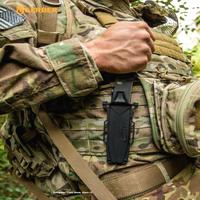knife: (96, 23, 152, 171)
